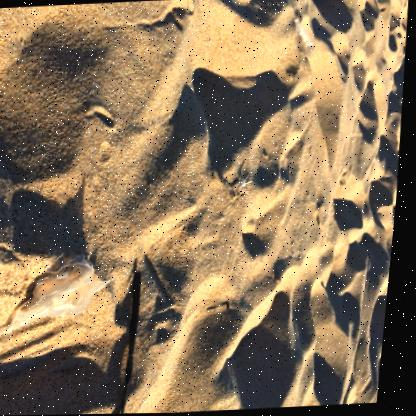Plastic: (0, 253, 119, 335), (130, 271, 147, 414), (295, 18, 316, 57)
